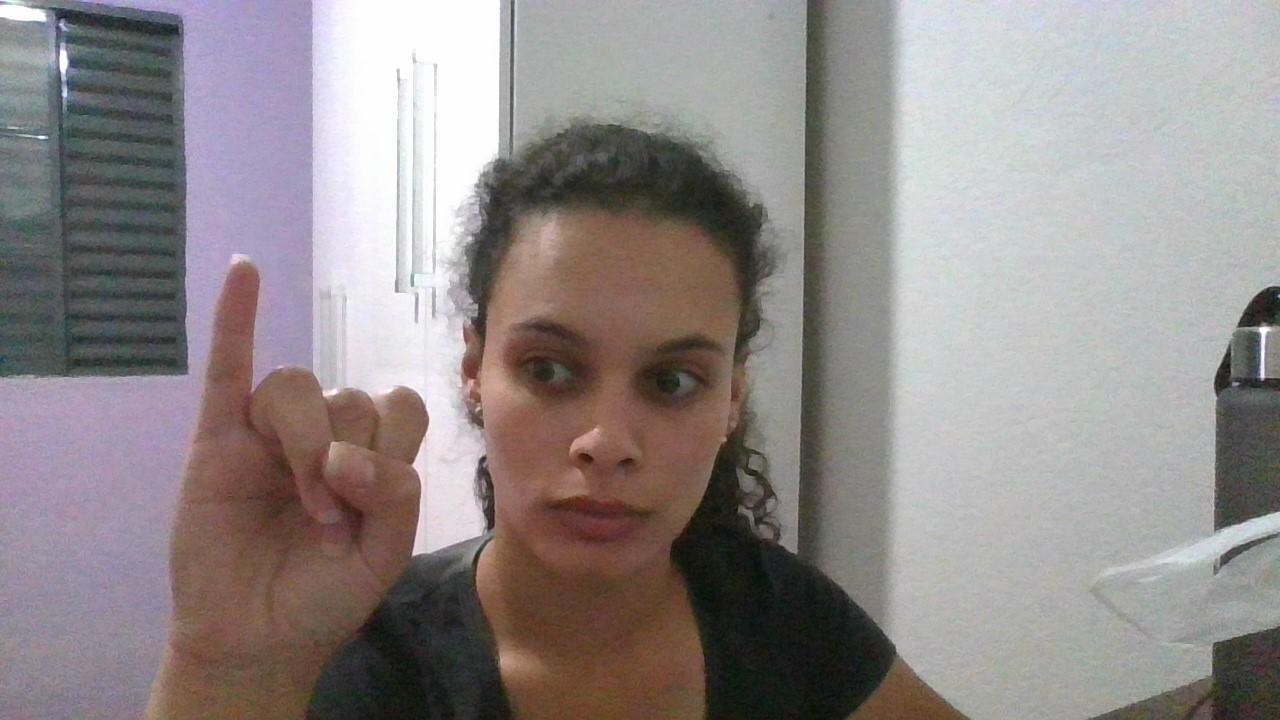I: (158, 232, 438, 664)
